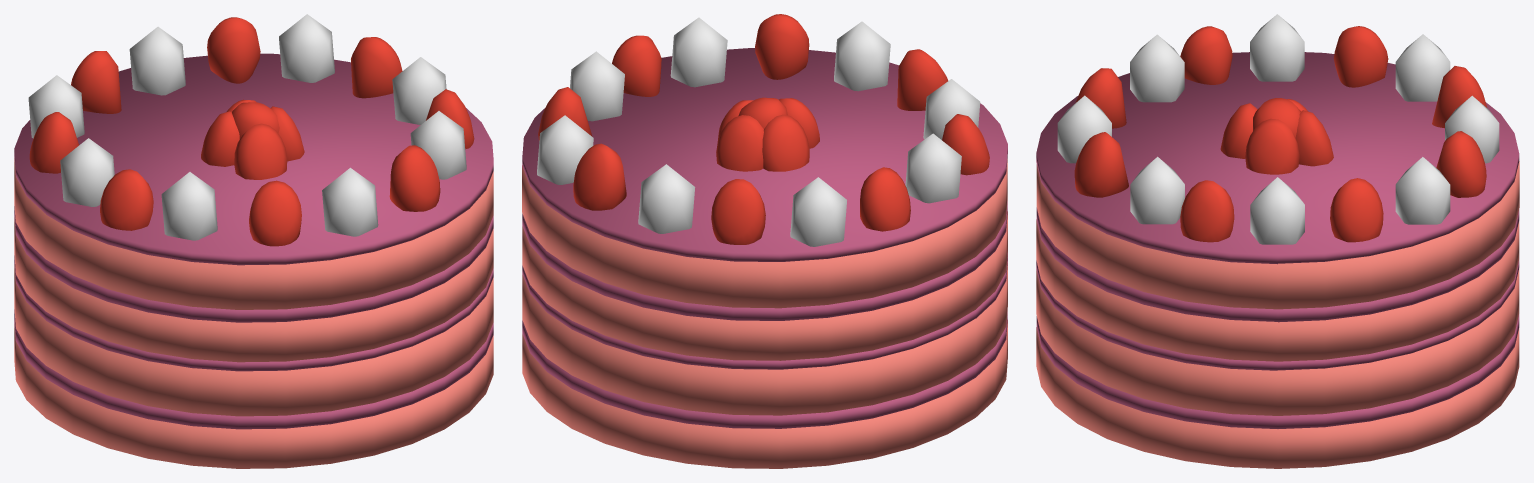
File: тортилия.fbx
The picture shows the model from 3 angles, left to right: view 1: azimuth 30°, elevation 25°; view 2: azimuth 150°, elevation 25°; view 3: azimuth 270°, elevation 25°; orthographic projection.
Visible parts, largest first — view 1: Cylinder.005; view 2: Cylinder.005; view 3: Cylinder.005.
Boxes of the visible parts, x1,y1,x2,y2 form: Cylinder.005: (14, 14, 493, 468); Cylinder.005: (522, 14, 1007, 468); Cylinder.005: (1036, 14, 1519, 468).
Bounding box in the file's own units: 46.54 × 28.89 × 46.58.
